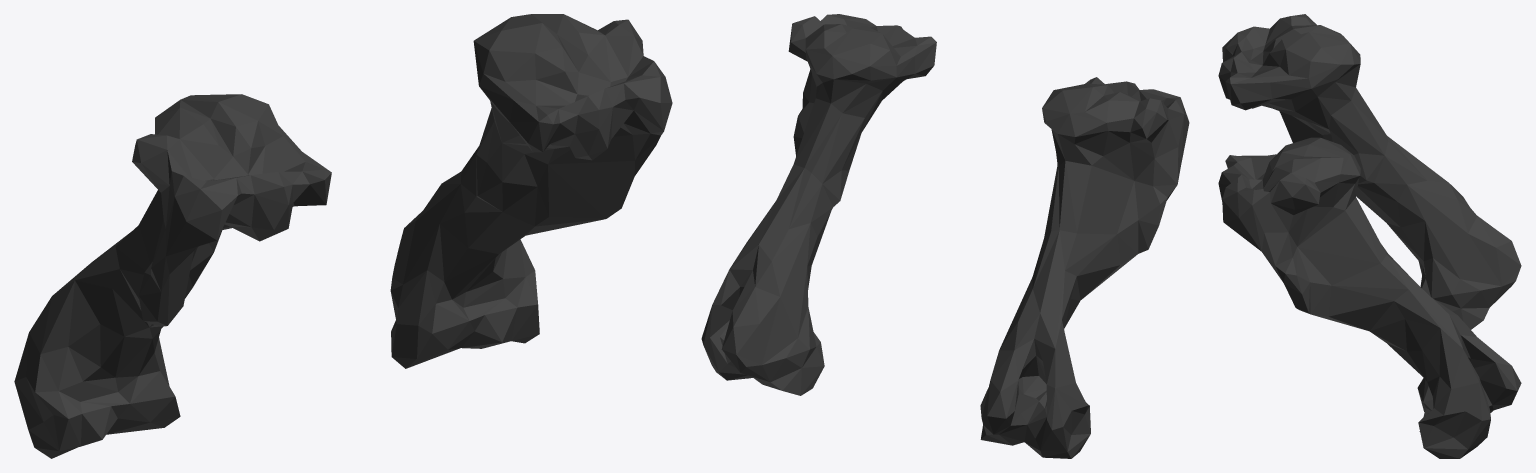
Rendered from skel_humerus.glb.
3 renders of one model, left to right at view 1: azimuth 30°, elevation 25°; view 2: azimuth 150°, elevation 25°; view 3: azimuth 270°, elevation 25°, orthographic. The views are drawn at different scales.
Visible parts, largest first — view 1: skel_humerus; view 2: skel_humerus; view 3: skel_humerus.
Part boxes in pixels (box(x1,y1,x2,y2)): skel_humerus: box(14, 14, 672, 458); skel_humerus: box(701, 14, 1189, 458); skel_humerus: box(1218, 14, 1521, 458).
Bounding box in the file's own units: 0.00626 × 0.00483 × 0.00457.
1 material, 1 textured.
